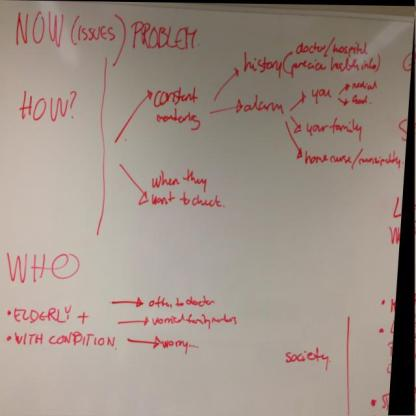Handwritten text: (140, 165, 232, 216), (127, 15, 205, 59), (4, 248, 86, 289), (9, 328, 116, 356), (7, 8, 69, 55), (277, 336, 332, 387), (303, 144, 405, 171), (15, 80, 68, 126), (149, 309, 241, 332), (292, 35, 371, 58), (149, 284, 221, 309), (10, 297, 71, 326), (305, 114, 370, 141), (240, 45, 283, 84), (288, 58, 377, 76), (149, 80, 203, 107), (148, 108, 203, 134), (241, 89, 288, 119), (73, 19, 116, 47), (159, 334, 193, 359), (307, 82, 332, 104), (345, 90, 372, 107), (347, 79, 378, 92)
